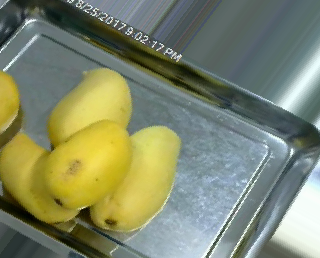Mango: (91, 124, 181, 230), (43, 119, 129, 206), (0, 132, 78, 223), (46, 69, 131, 146), (0, 71, 19, 131)
